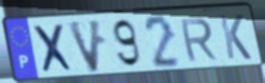2: (143, 14, 185, 72)
9: (111, 19, 143, 71)
K: (217, 13, 254, 61)
R: (178, 17, 220, 64)
V: (65, 18, 104, 76)
X: (30, 22, 77, 76)
